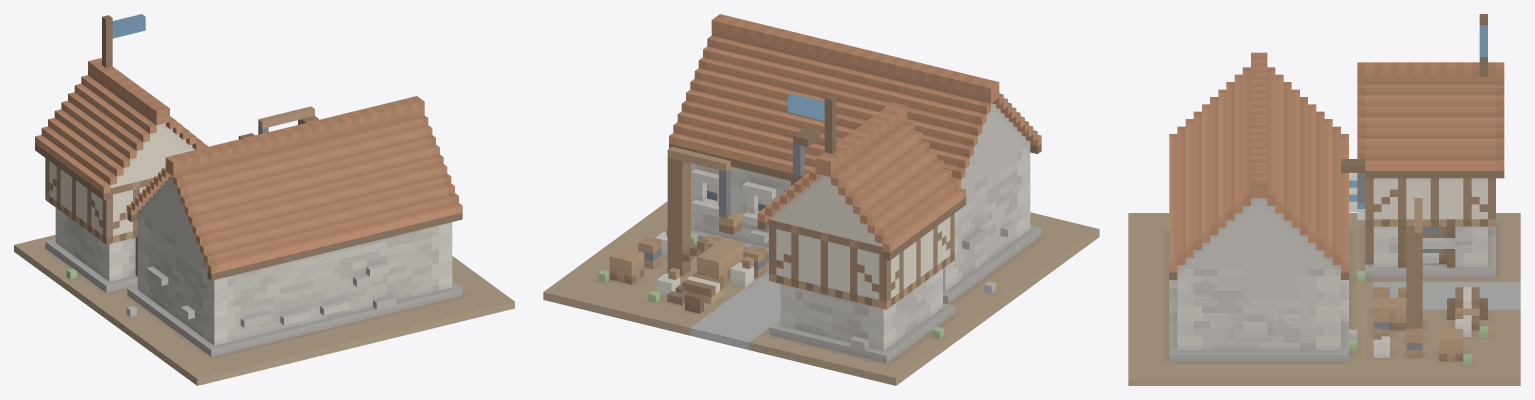
The model's file is warehouse.l3.glb.
The picture shows the model from 3 angles, left to right: view 1: azimuth 30°, elevation 25°; view 2: azimuth 150°, elevation 25°; view 3: azimuth 270°, elevation 25°; orthographic projection. The views are drawn at different scales.
Parts seen in each view (by area): view 1: warehouse; view 2: warehouse; view 3: warehouse.
Boxes of the visible parts, x1,y1,x2,y2 form: warehouse: (14, 14, 514, 385); warehouse: (543, 14, 1099, 385); warehouse: (1128, 14, 1520, 385).
Size of the model in its own units: 6 by 4.12 by 6.
